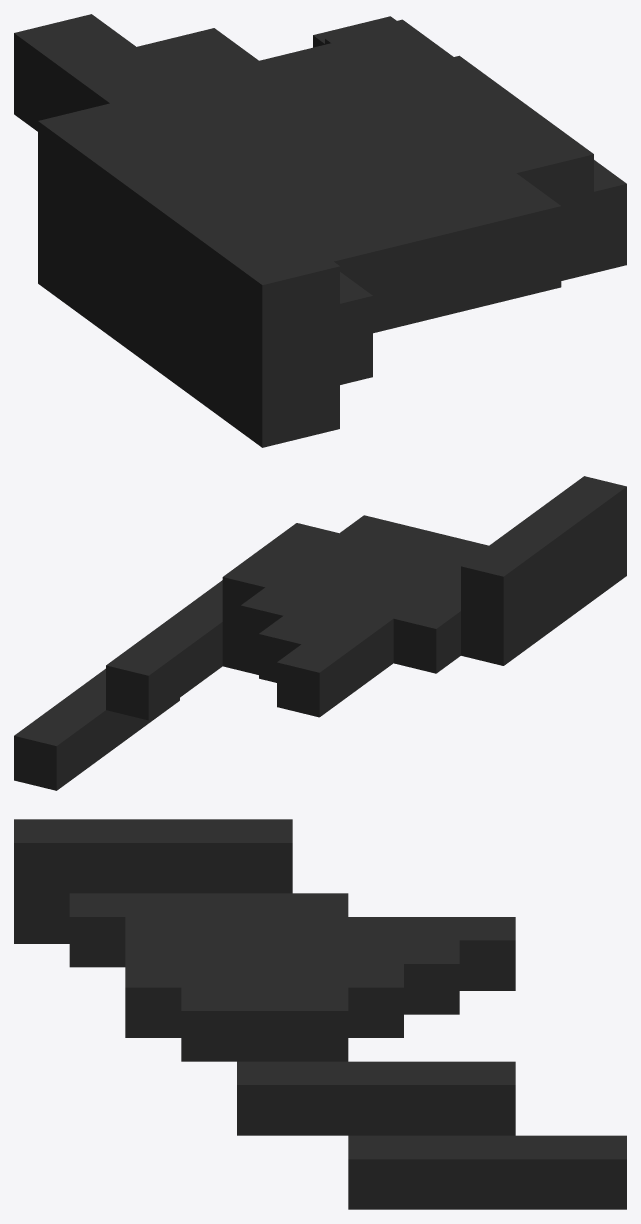
Rendered from Extra-6-RedFighter_FrontWing_L.obj.
The picture shows the model from 3 angles, top to bottom: view 1: azimuth 30°, elevation 25°; view 2: azimuth 150°, elevation 25°; view 3: azimuth 270°, elevation 25°; orthographic projection. The views are drawn at different scales.
Visible parts, largest first — view 1: RedFighter_FrontWing_L; view 2: RedFighter_FrontWing_L; view 3: RedFighter_FrontWing_L.
Part boxes in pixels (x1,y1,x2,y2): RedFighter_FrontWing_L: [14, 14, 626, 447]; RedFighter_FrontWing_L: [14, 476, 626, 790]; RedFighter_FrontWing_L: [14, 819, 626, 1209].
Size of the model in its own units: 0.8 by 0.4 by 1.1.
1 material, 1 textured.
